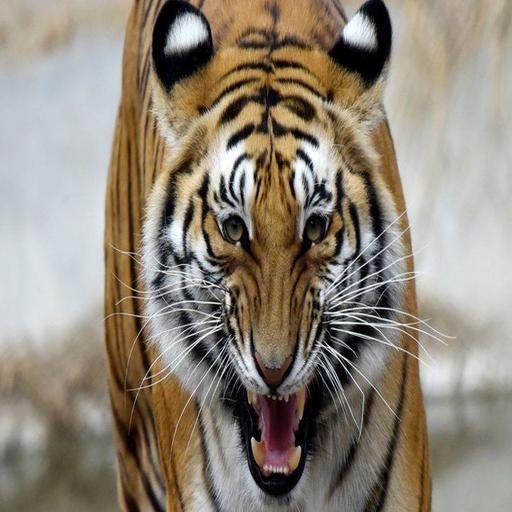Tiger: (89, 0, 452, 512)
